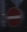No entry: (5, 6, 21, 27)
